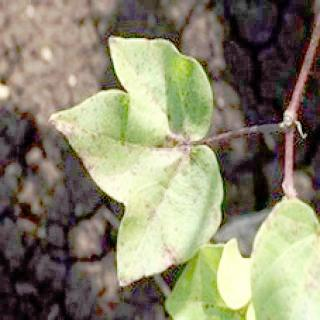leaf spot: (57, 102, 221, 289)
